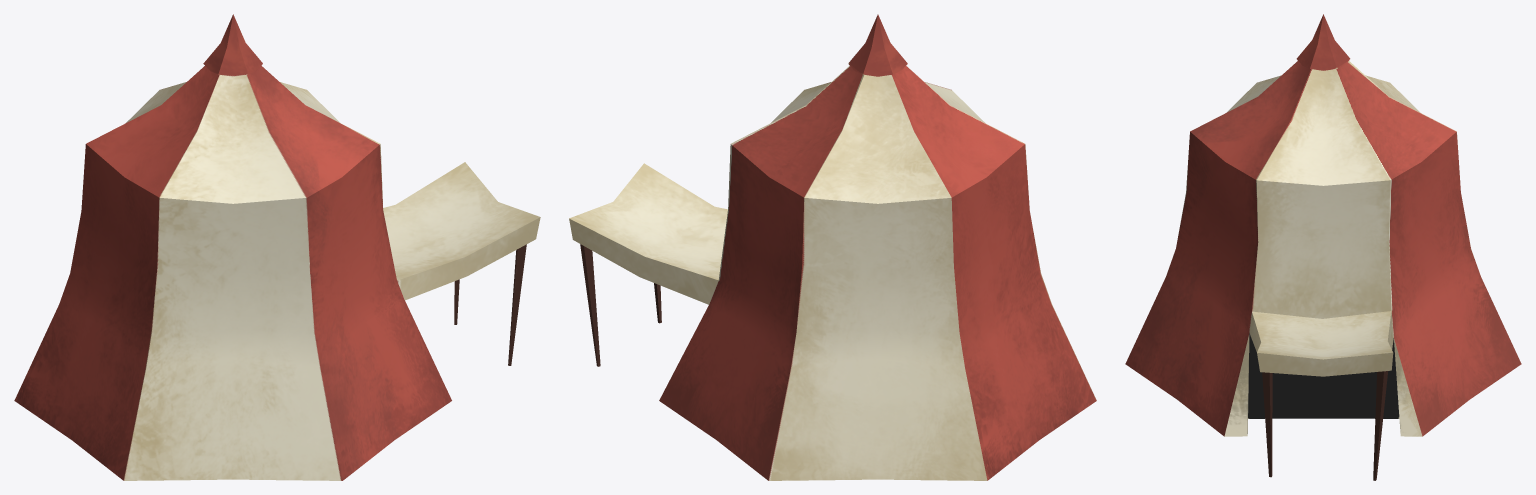
File: tentje.fbx
3 views of the same model, side by side, from view 1: azimuth 30°, elevation 25°; view 2: azimuth 150°, elevation 25°; view 3: azimuth 270°, elevation 25° (orthographic). The views are drawn at different scales.
Parts seen in each view (by area): view 1: pCylinder2; view 2: pCylinder2; view 3: pCylinder2.
Boxes of the visible parts, bbox=[...] form: pCylinder2: bbox=[14, 14, 540, 480]; pCylinder2: bbox=[569, 14, 1096, 480]; pCylinder2: bbox=[1125, 14, 1521, 480].
Size of the model in its own units: 3.41 by 2.94 by 2.97.
